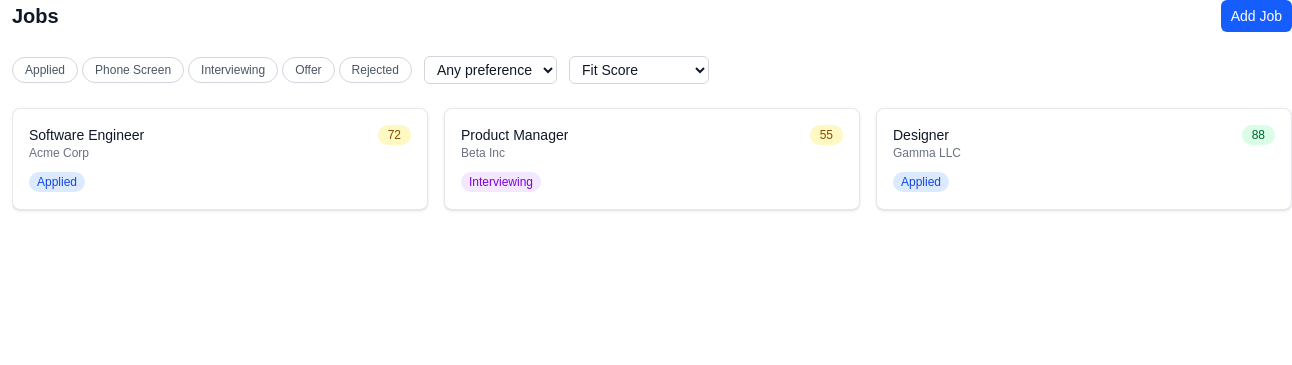
it: Filter and sort jobs flow › re-fetches when the status filter is toggled off
Expected: the text "Product Manager" is shown, [461,125,568,145]
Click the button "Applied" at {"x": 45, "y": 70}, box [12,57,78,83]
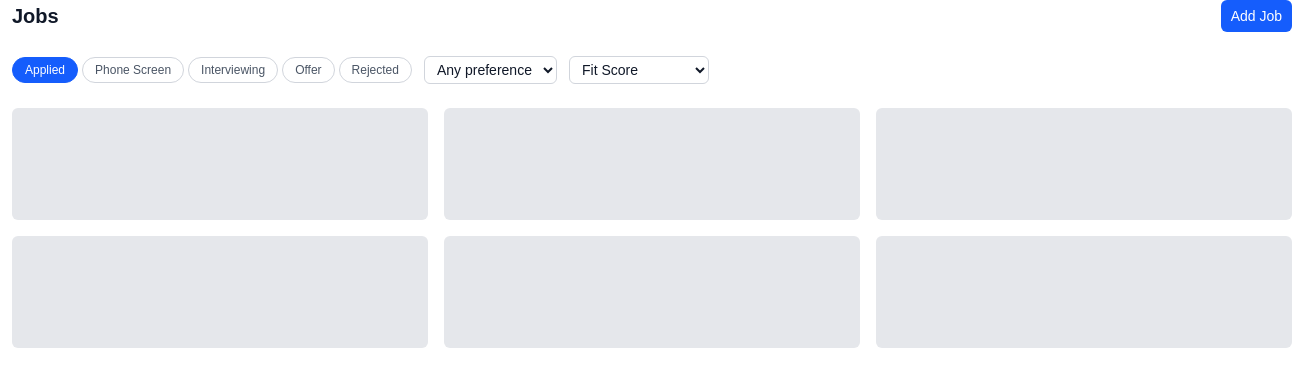
Expected: the link "Product Manager" is gone
Click the button "Applied" at {"x": 45, "y": 70}, box [12,57,78,83]
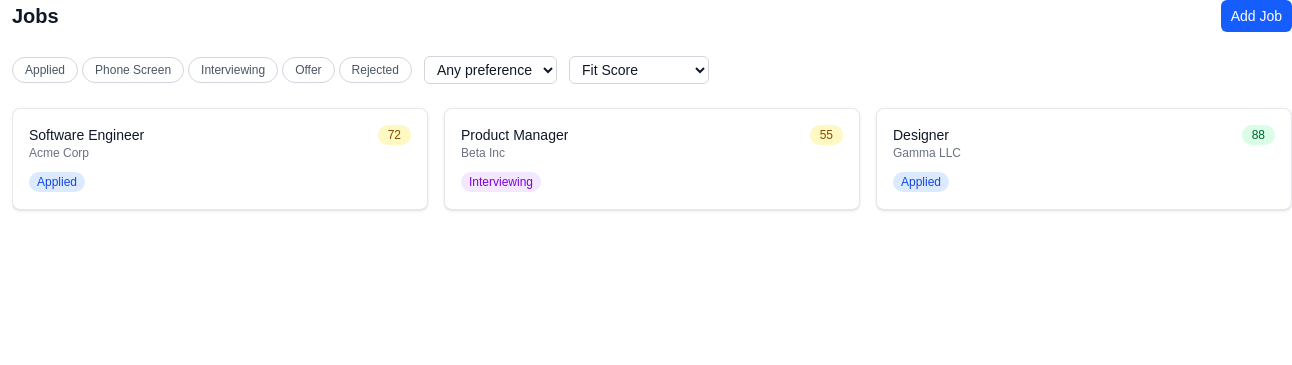
Expected: the text "Product Manager" is shown, [461,125,568,145]
